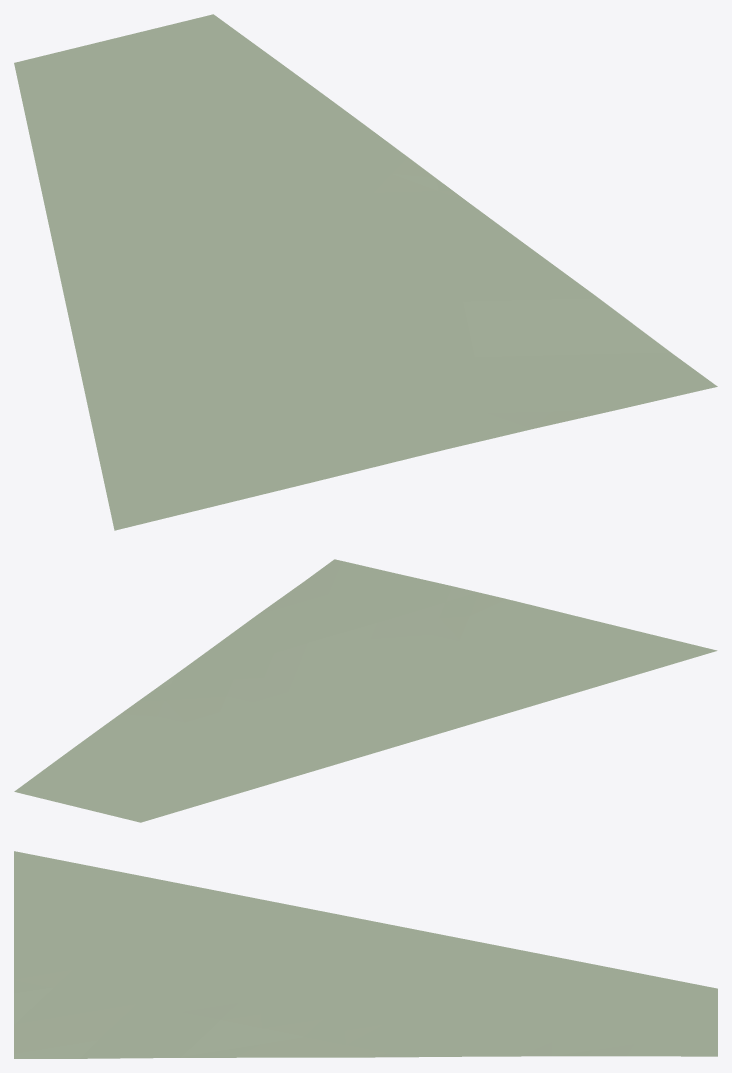
File: SM_MPRR_Terrain_-5_0.fbx
The picture shows the model from 3 angles, top to bottom: view 1: azimuth 30°, elevation 25°; view 2: azimuth 150°, elevation 25°; view 3: azimuth 270°, elevation 25°; orthographic projection. The views are drawn at different scales.
Parts seen in each view (by area): view 1: SM_MPRR_Terrain_-5_0; view 2: SM_MPRR_Terrain_-5_0; view 3: SM_MPRR_Terrain_-5_0.
Part boxes in pixels (x1,y1,x2,y2): SM_MPRR_Terrain_-5_0: (14,14,717,530); SM_MPRR_Terrain_-5_0: (14,559,717,822); SM_MPRR_Terrain_-5_0: (14,851,717,1058).
Size of the model in its own units: 10360 by 15000 by 60.51.
